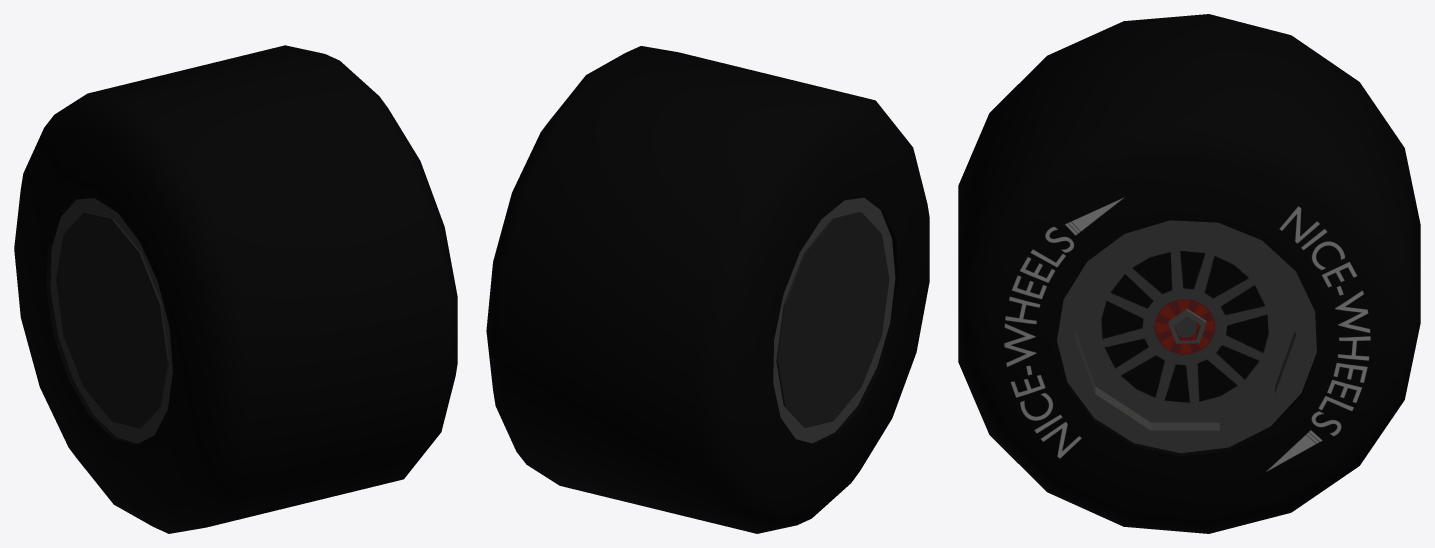
The model's file is wheel_rear.glb.
3 renders of one model, left to right at view 1: azimuth 30°, elevation 25°; view 2: azimuth 150°, elevation 25°; view 3: azimuth 270°, elevation 25°, orthographic. The views are drawn at different scales.
Visible parts, largest first — view 1: wheel_RL; view 2: wheel_RL; view 3: wheel_RL.
Boxes of the visible parts, x1,y1,x2,y2 form: wheel_RL: [14, 45, 457, 533]; wheel_RL: [486, 46, 929, 533]; wheel_RL: [958, 14, 1420, 533].
Size of the model in its own units: 0.4699 by 0.7198 by 0.7167.
Materials: 6 (3 with a texture image).
